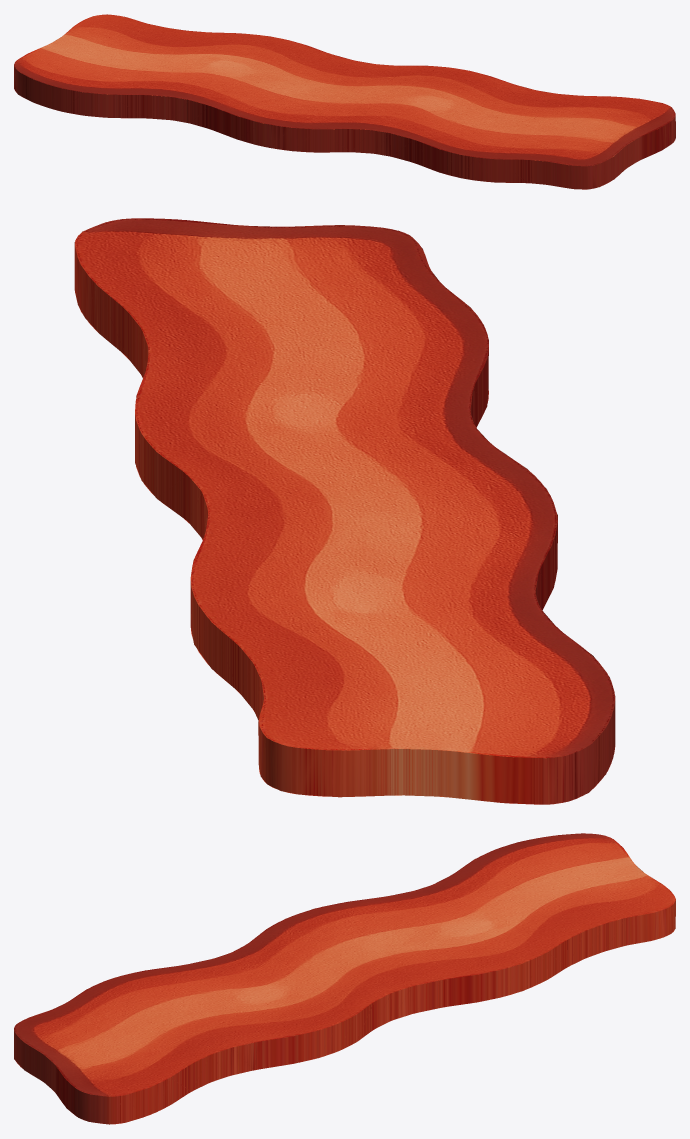
File: bacon.glb
The picture shows the model from 3 angles, top to bottom: view 1: azimuth 30°, elevation 25°; view 2: azimuth 150°, elevation 25°; view 3: azimuth 270°, elevation 25°; orthographic projection. The views are drawn at different scales.
Visible parts, largest first — view 1: OuterCurve; view 2: OuterCurve; view 3: OuterCurve.
Part boxes in pixels (bbox=[...]): OuterCurve: bbox=[14, 14, 675, 189]; OuterCurve: bbox=[74, 218, 615, 804]; OuterCurve: bbox=[14, 833, 675, 1124].
Bounding box in the file's own units: 8.16 × 0.4 × 8.66.
Materials: 1 (1 with a texture image).
